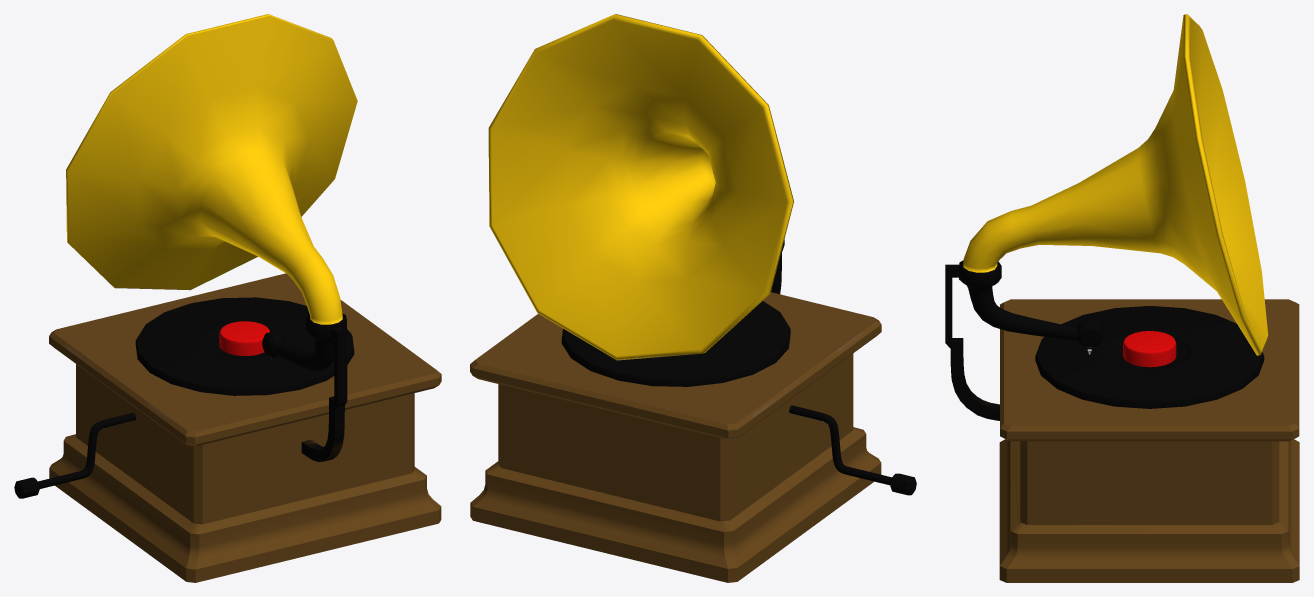
Rendered from gramophone(comp).fbx.
The picture shows the model from 3 angles, left to right: view 1: azimuth 30°, elevation 25°; view 2: azimuth 150°, elevation 25°; view 3: azimuth 270°, elevation 25°; orthographic projection. The views are drawn at different scales.
Visible parts, largest first — view 1: tikuonki; view 2: tikuonki; view 3: tikuonki.
Boxes of the visible parts, x1,y1,x2,y2 form: tikuonki: (14,14,441,582); tikuonki: (470,14,916,582); tikuonki: (945,14,1299,582).
Size of the model in its own units: 1.88 by 2.24 by 1.49.
Materials: 1 (1 with a texture image).
